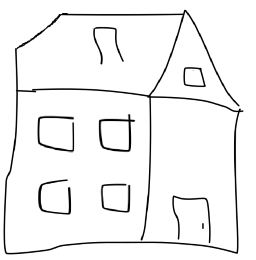big_house: (2, 4, 256, 257)
chimney: (86, 22, 136, 71)
door: (160, 180, 218, 249)
open_window: (32, 109, 81, 156), (91, 110, 136, 158), (32, 176, 76, 218), (94, 178, 137, 215)
roof: (8, 2, 243, 110)
wall: (139, 92, 249, 254)
